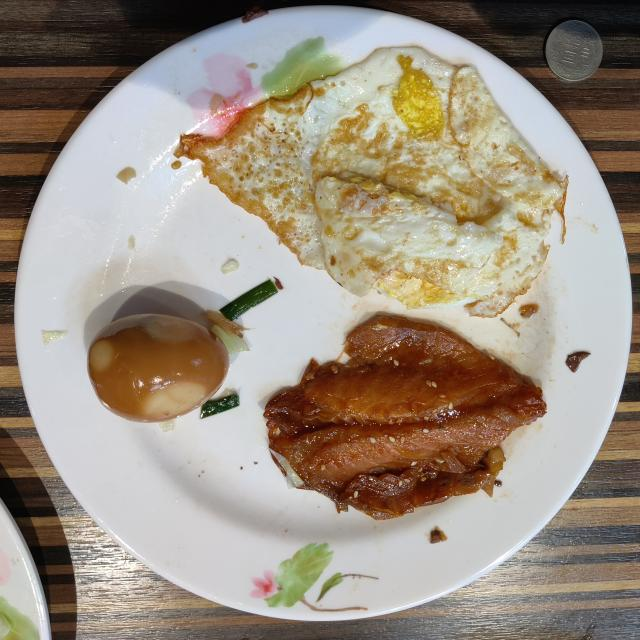Kabayaki sea bream fillet: (264, 315, 546, 519)
coin: (545, 20, 602, 81)
soy egg: (89, 314, 229, 422)
